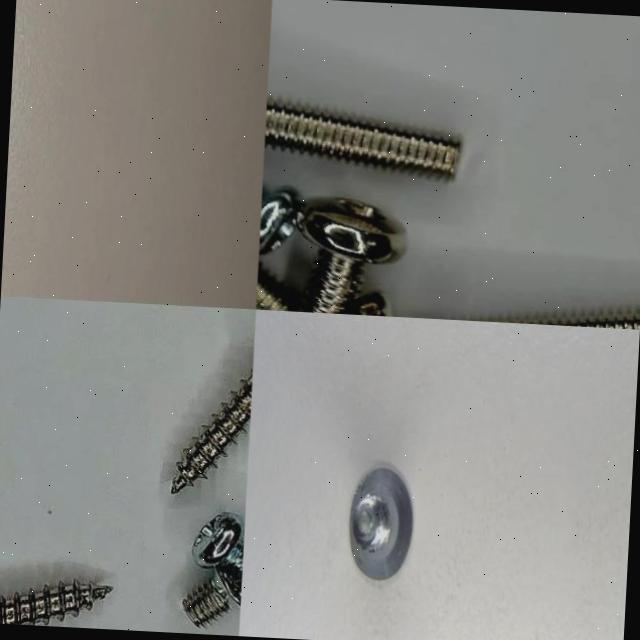Screw: (265, 99, 461, 179), (297, 200, 406, 315), (172, 373, 253, 494), (349, 466, 412, 580), (0, 585, 112, 626), (194, 514, 244, 588), (183, 572, 241, 629), (259, 189, 299, 255)
